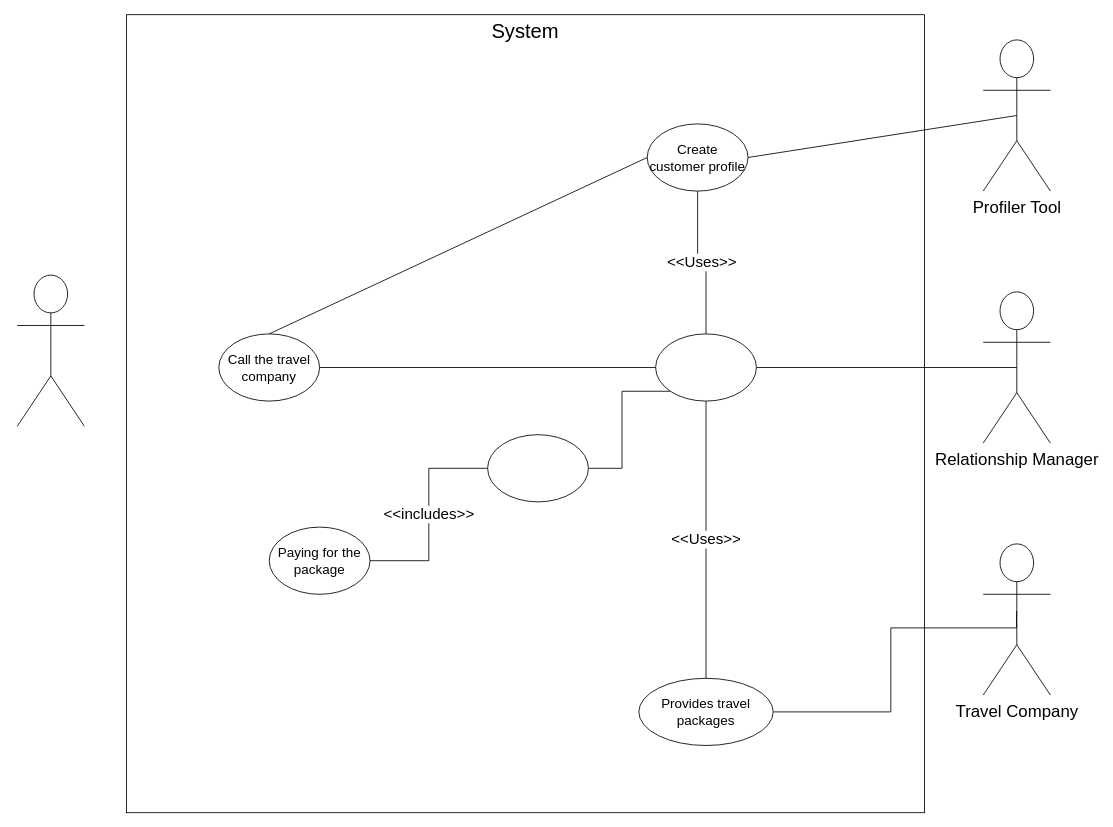
This 1113x827 diagram has some shape labels left out. Each missing label, with the centre of its shape:
Books holiday: point (537, 468)
Customer: point (50, 350)
Receives call: point (705, 367)
